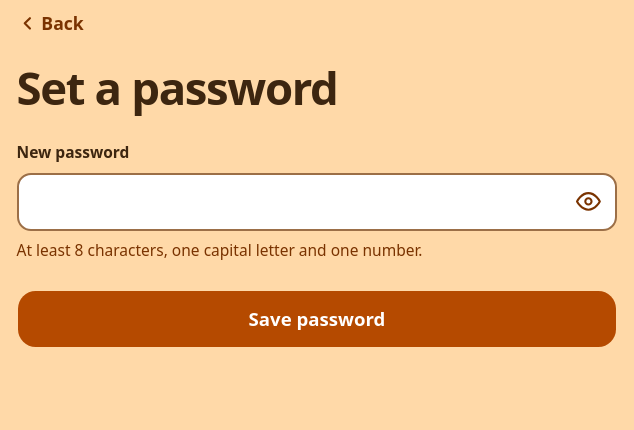
SetPasswordScreen › shows the en text for the answer AUTH_PASSWORD_TOO_WEAK inline
Step 1. Type "Sunce2026" into the password field labelled "New password" → (317, 202), box 16,173 -> 618,231
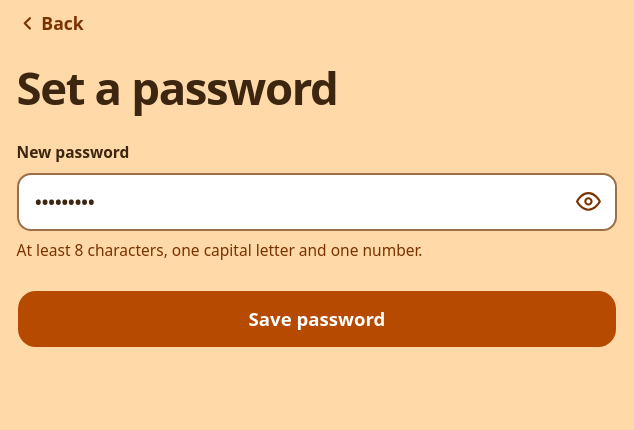
Step 2. Click the button "Save password" → (317, 320), box 16,290 -> 618,348
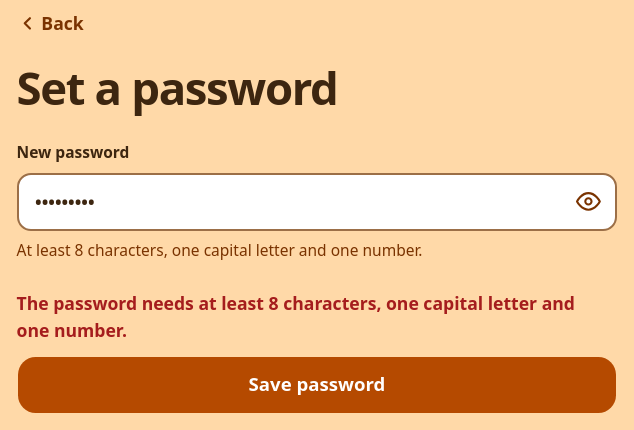
Result: the message reads "The password needs at least 8 characters, one capital letter and one number." at 16,292 -> 575,342
